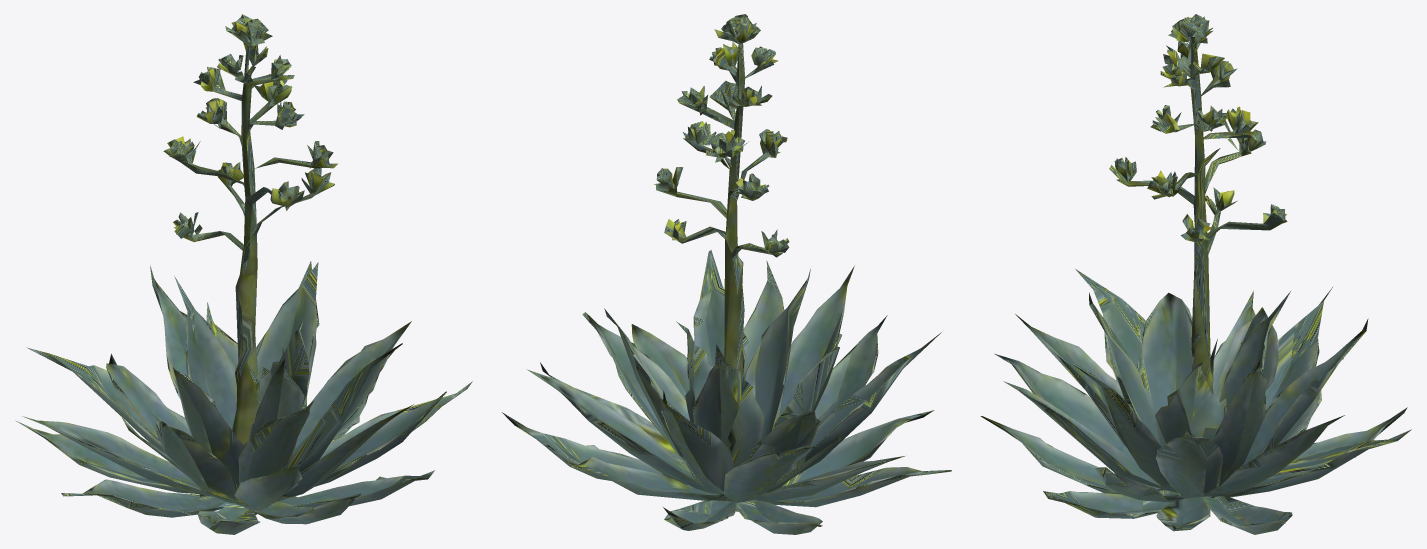
File: desert-plants-century-plant-agave.glb
The picture shows the model from 3 angles, left to right: view 1: azimuth 30°, elevation 25°; view 2: azimuth 150°, elevation 25°; view 3: azimuth 270°, elevation 25°; orthographic projection.
Visible parts, largest first — view 1: world; view 2: world; view 3: world.
Part boxes in pixels (bbox=[...]): world: bbox=[15, 14, 472, 534]; world: bbox=[502, 14, 951, 534]; world: bbox=[980, 14, 1411, 534].
Bounding box in the file's own units: 0.8831 × 1 × 0.8058.
Materials: 1 (1 with a texture image).
